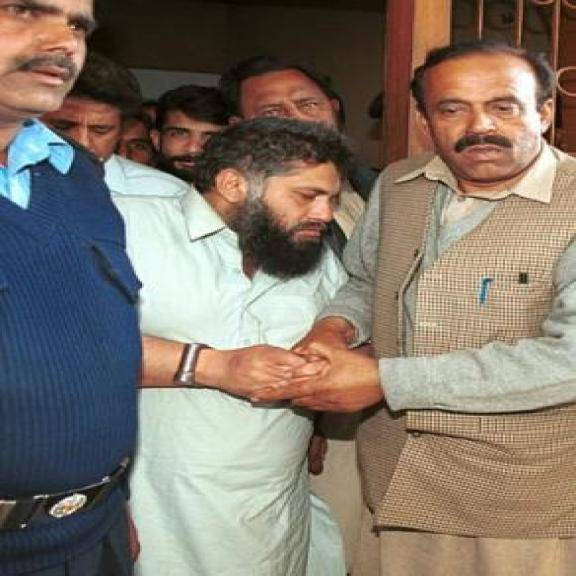face: (414, 65, 558, 186), (218, 150, 353, 266), (0, 0, 100, 126), (231, 77, 358, 135), (45, 83, 121, 160), (153, 108, 228, 177)
